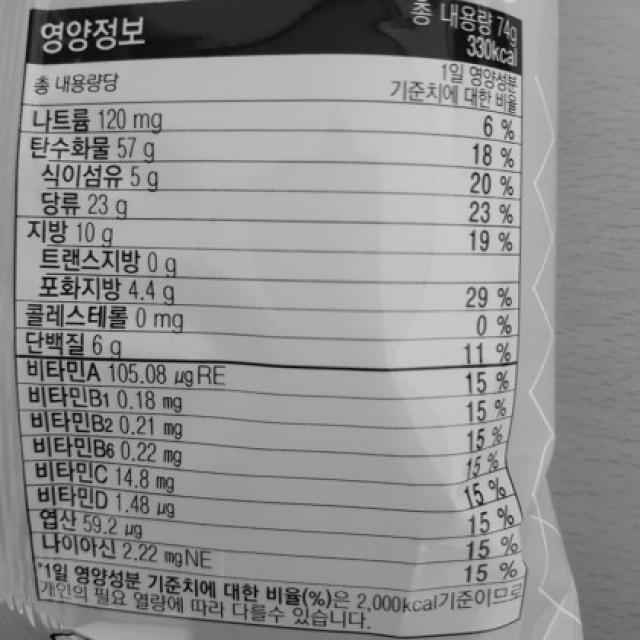Nutrition Label: (0, 3, 564, 638)
